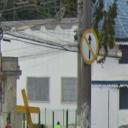NoSeguir: (80, 29, 99, 64)
